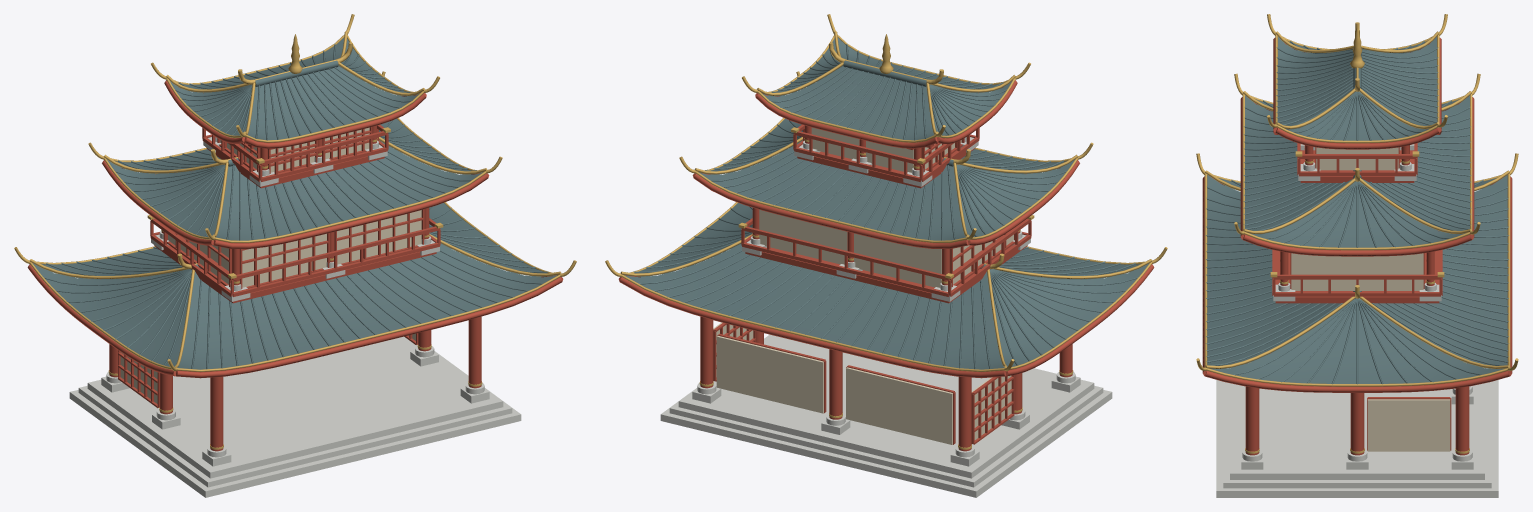
Rendered from sanctuary.glb.
The picture shows the model from 3 angles, left to right: view 1: azimuth 30°, elevation 25°; view 2: azimuth 150°, elevation 25°; view 3: azimuth 270°, elevation 25°; orthographic projection. The views are drawn at different scales.
Visible parts, largest first — view 1: sanctuary_Roof, sanctuary_Stone, sanctuary_Timber, sanctuary_Gold, sanctuary_Paper; view 2: sanctuary_Roof, sanctuary_Stone, sanctuary_Timber, sanctuary_Paper, sanctuary_Gold; view 3: sanctuary_Roof, sanctuary_Stone, sanctuary_Timber, sanctuary_Gold, sanctuary_Paper.
Part boxes in pixels (<box>): sanctuary_Roof: <box>32,38,557,369</box>; sanctuary_Stone: <box>69,137,521,497</box>; sanctuary_Timber: <box>27,80,563,451</box>; sanctuary_Gold: <box>14,14,576,449</box>; sanctuary_Paper: <box>120,127,421,403</box>; sanctuary_Roof: <box>624,38,1149,369</box>; sanctuary_Stone: <box>660,137,1112,497</box>; sanctuary_Timber: <box>618,80,1154,451</box>; sanctuary_Paper: <box>713,127,1013,444</box>; sanctuary_Gold: <box>605,14,1167,449</box>; sanctuary_Roof: <box>1206,37,1508,384</box>; sanctuary_Stone: <box>1216,144,1498,497</box>; sanctuary_Timber: <box>1202,38,1512,455</box>; sanctuary_Gold: <box>1196,14,1518,453</box>; sanctuary_Paper: <box>1291,147,1450,451</box>.
Size of the model in its own units: 14.25 by 12.51 by 9.36.
